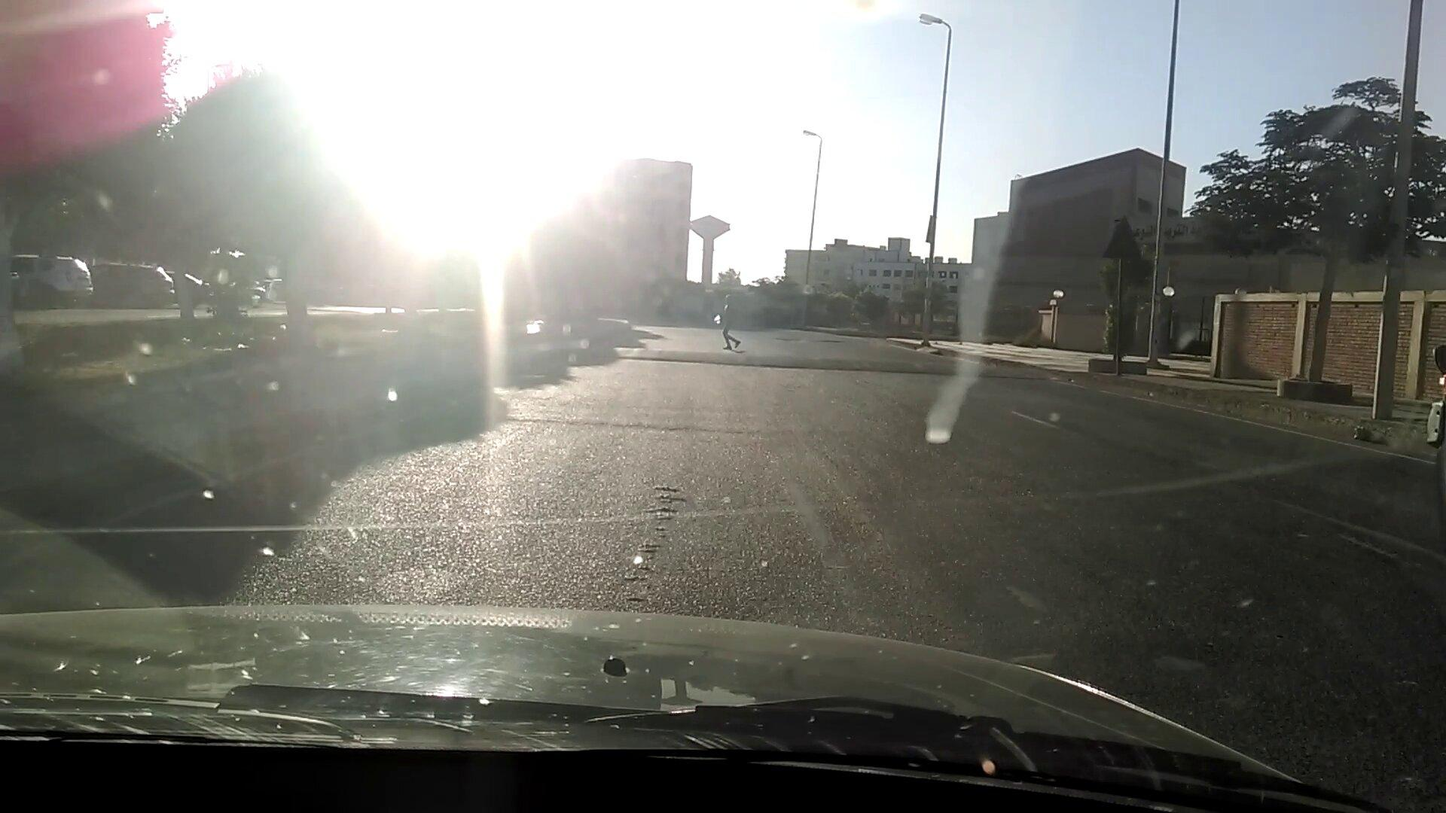Bump: (606, 344, 1066, 386)
